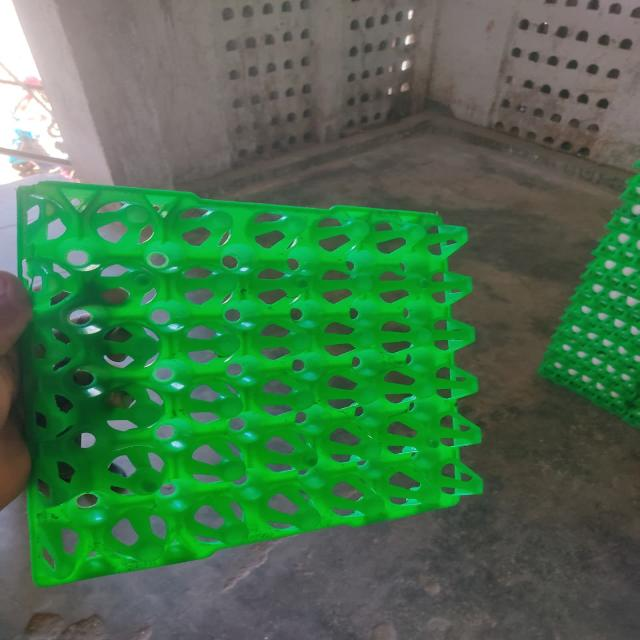egg_tray: (21, 184, 479, 583), (492, 0, 639, 160), (547, 203, 639, 423), (547, 280, 639, 412), (545, 296, 639, 412), (576, 201, 639, 326), (583, 204, 639, 307), (576, 238, 639, 323), (583, 232, 639, 314), (594, 202, 639, 298), (593, 204, 639, 287), (621, 174, 639, 215), (623, 190, 639, 200), (23, 202, 31, 210), (629, 240, 636, 246), (635, 162, 639, 168), (627, 288, 633, 292), (21, 192, 25, 196), (630, 302, 633, 306), (630, 303, 633, 306), (637, 294, 639, 298), (635, 288, 637, 290), (587, 271, 588, 273), (639, 407, 639, 408), (35, 568, 35, 570)
